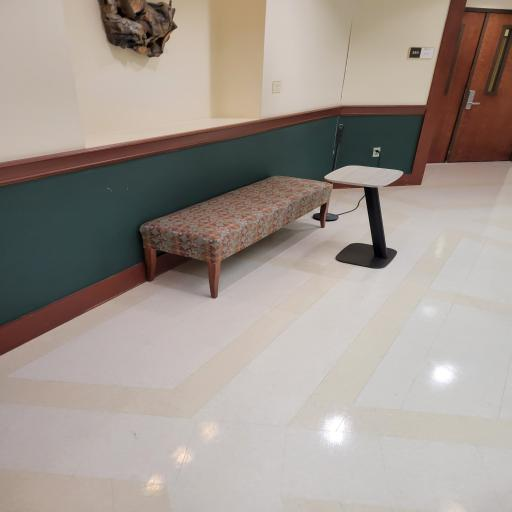bench: (143, 168, 340, 312)
outlet: (371, 143, 385, 157)
table: (322, 156, 416, 282)
